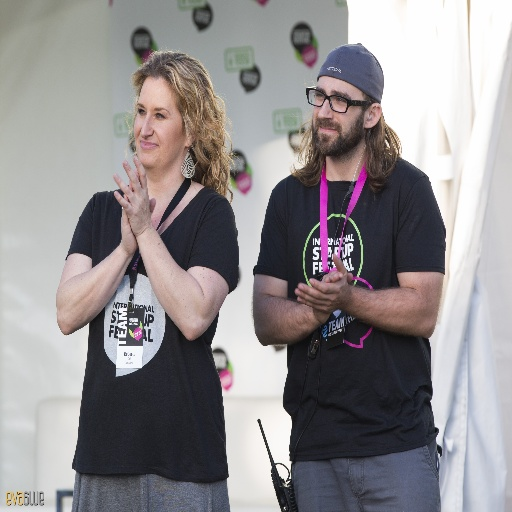hand: (118, 156, 156, 255), (294, 252, 351, 313), (322, 270, 353, 315)
